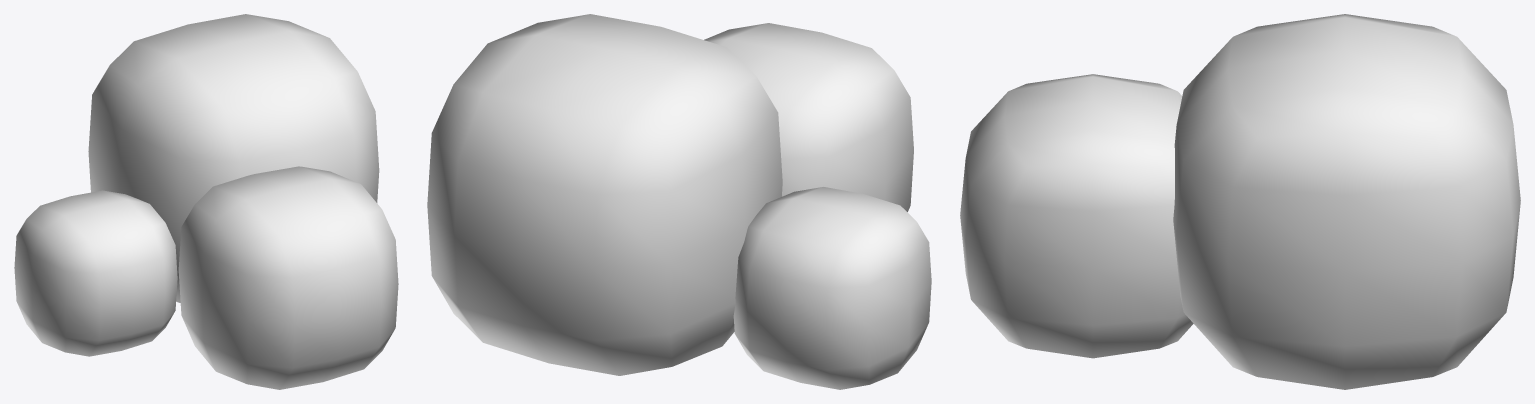
File: Wite_trr_revard.fbx
3 views of the same model, side by side, from view 1: azimuth 30°, elevation 25°; view 2: azimuth 150°, elevation 25°; view 3: azimuth 270°, elevation 25° (orthographic). The views are drawn at different scales.
Visible parts, largest first — view 1: 4.023; view 2: 4.023; view 3: 4.023.
Part boxes in pixels (x1,y1,x2,y2): 4.023: [14, 14, 398, 389]; 4.023: [427, 14, 931, 389]; 4.023: [960, 14, 1520, 389].
Bounding box in the file's own units: 0.9171 × 1.03 × 0.6253.
